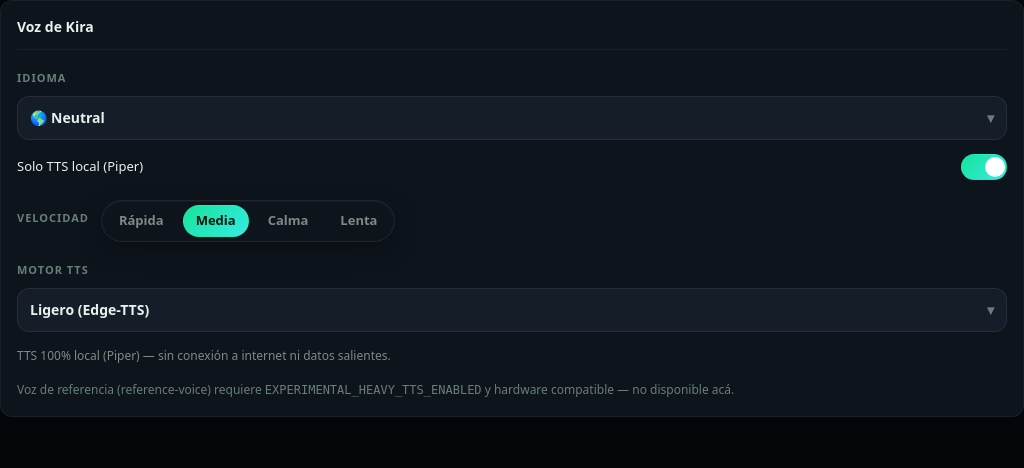
VoiceCard command errors surface honestly › shows a 409 conflict alert
Click the dropdown named "Idioma": (67, 118) [17, 96, 1007, 140]
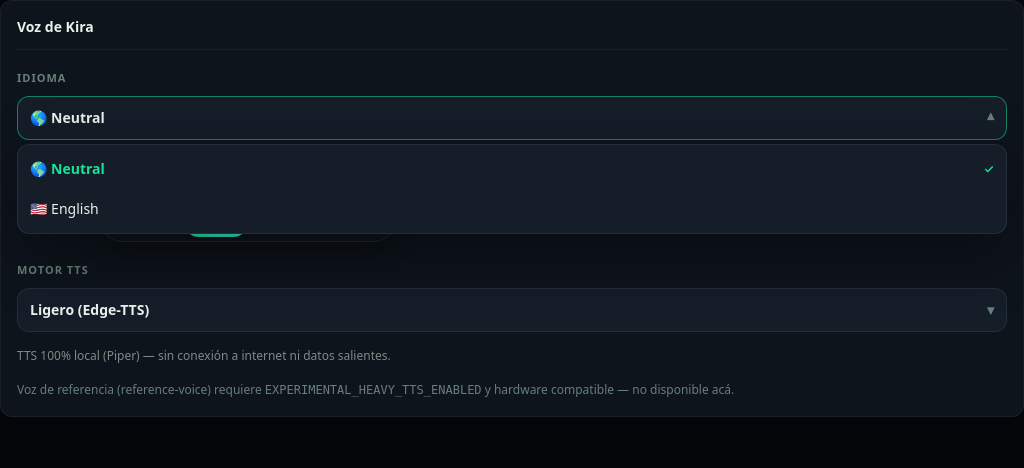
Click the option "🌎 Neutral ✓": (67, 168) [30, 159, 994, 178]
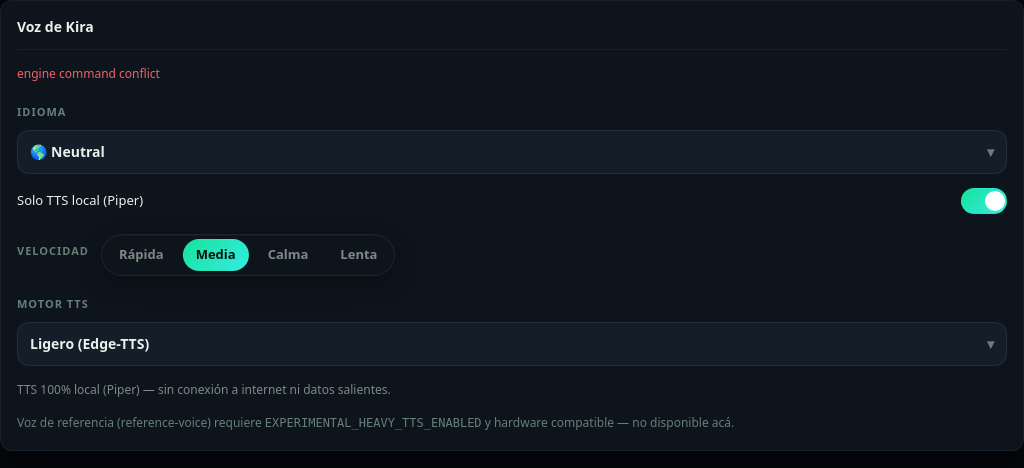
Result: the message shows "conflict" at [17, 65, 160, 82]
